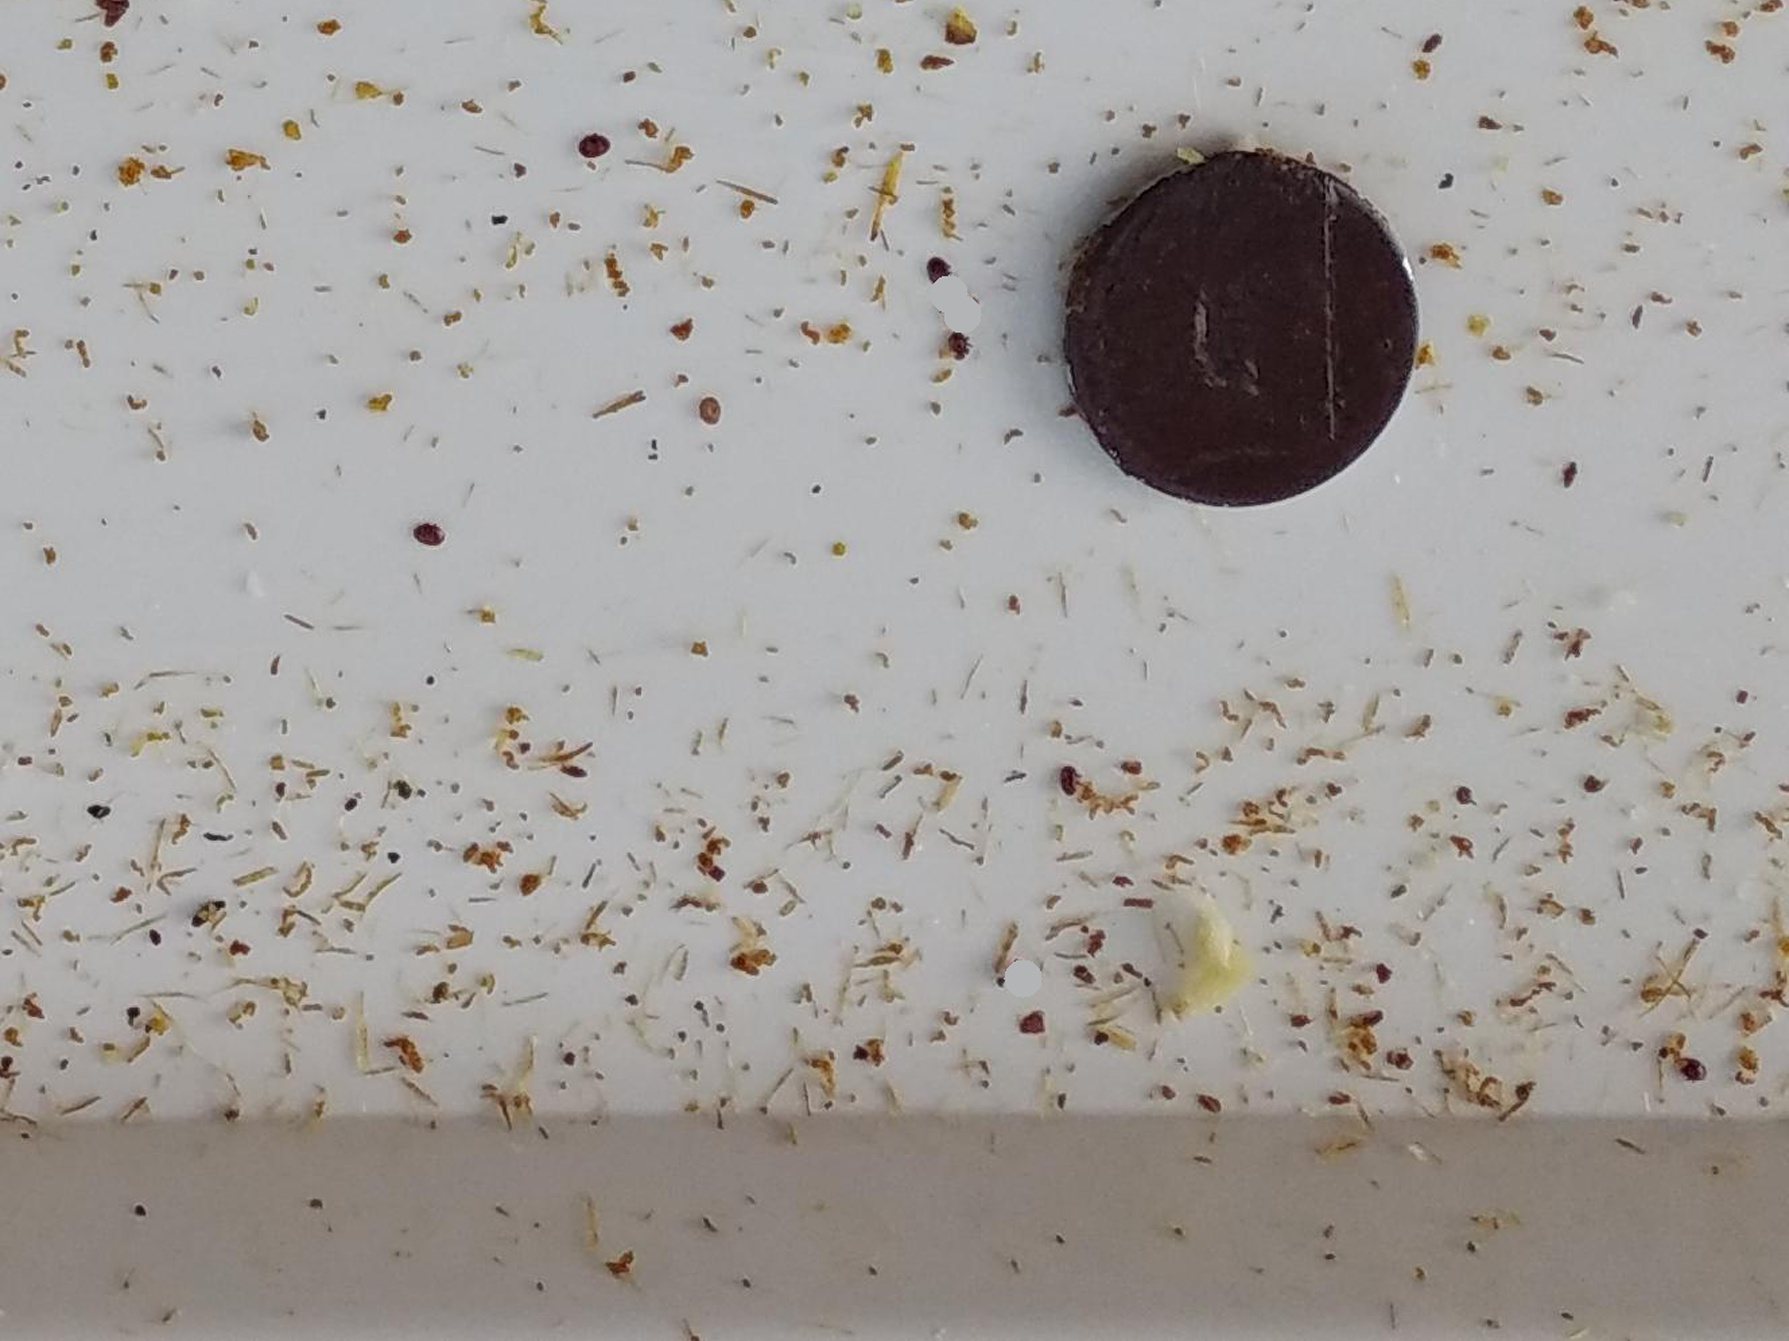Varroa: (1678, 1054, 1707, 1086), (1059, 761, 1087, 790), (692, 392, 721, 420), (925, 258, 952, 285), (580, 134, 606, 161), (417, 518, 437, 548), (952, 330, 972, 356)
